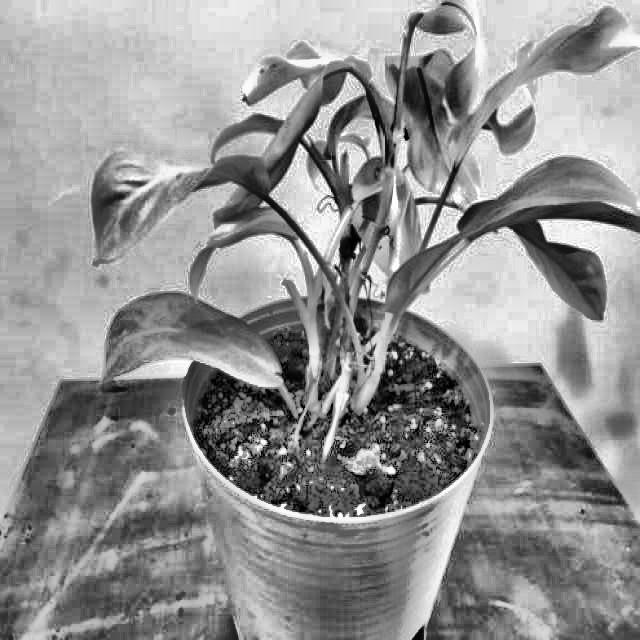plants: (93, 0, 639, 639), (240, 0, 484, 164), (343, 176, 428, 292)
